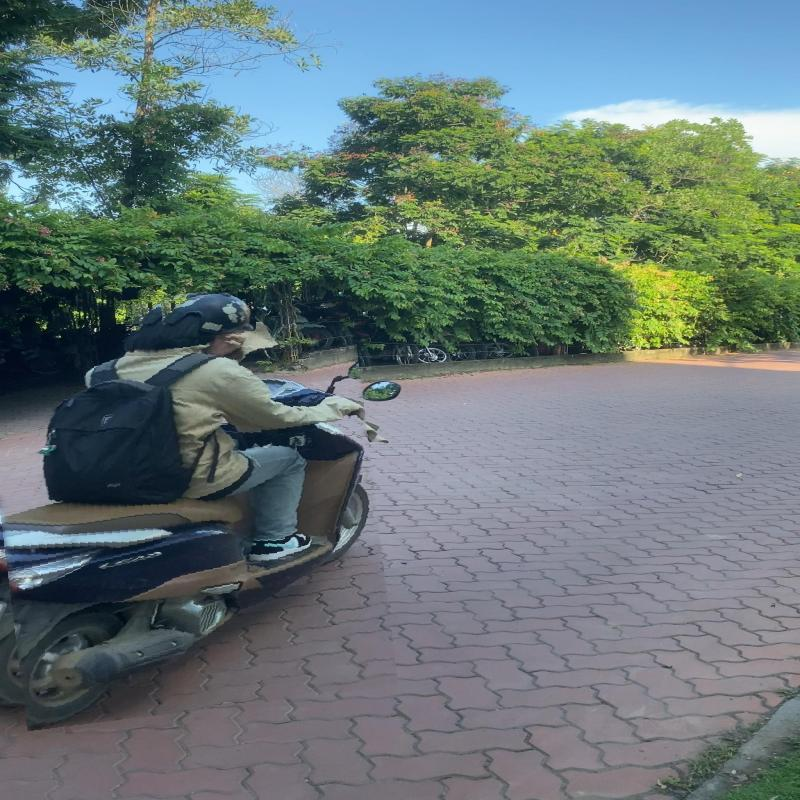helmet: (162, 292, 255, 338)
motorcyclist: (0, 283, 385, 720)
